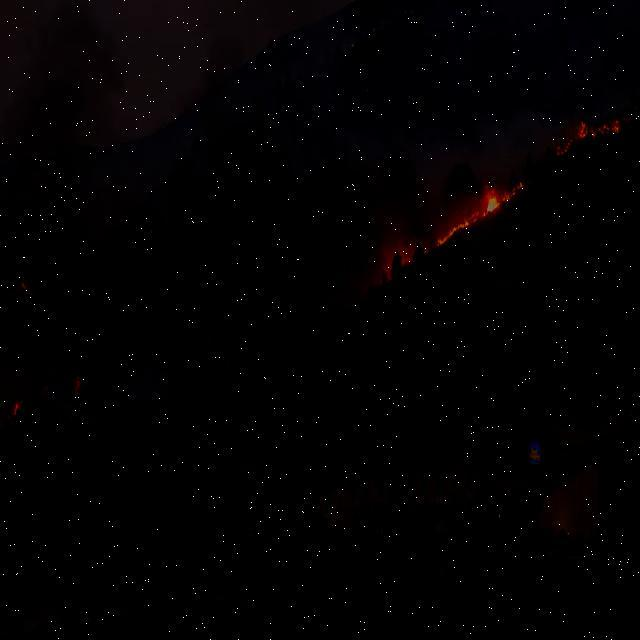Fire: (558, 119, 622, 152), (482, 181, 524, 219), (436, 220, 470, 244), (71, 373, 83, 395), (10, 401, 20, 418)
